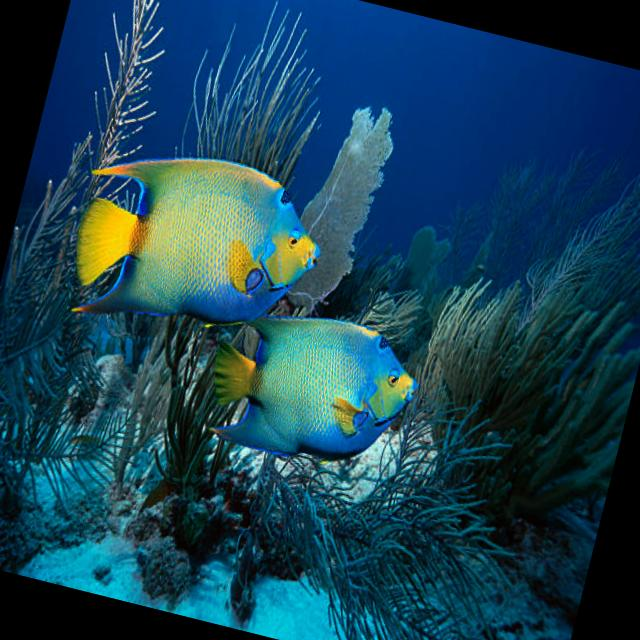AngelFish: (57, 135, 334, 367), (196, 296, 425, 487)
